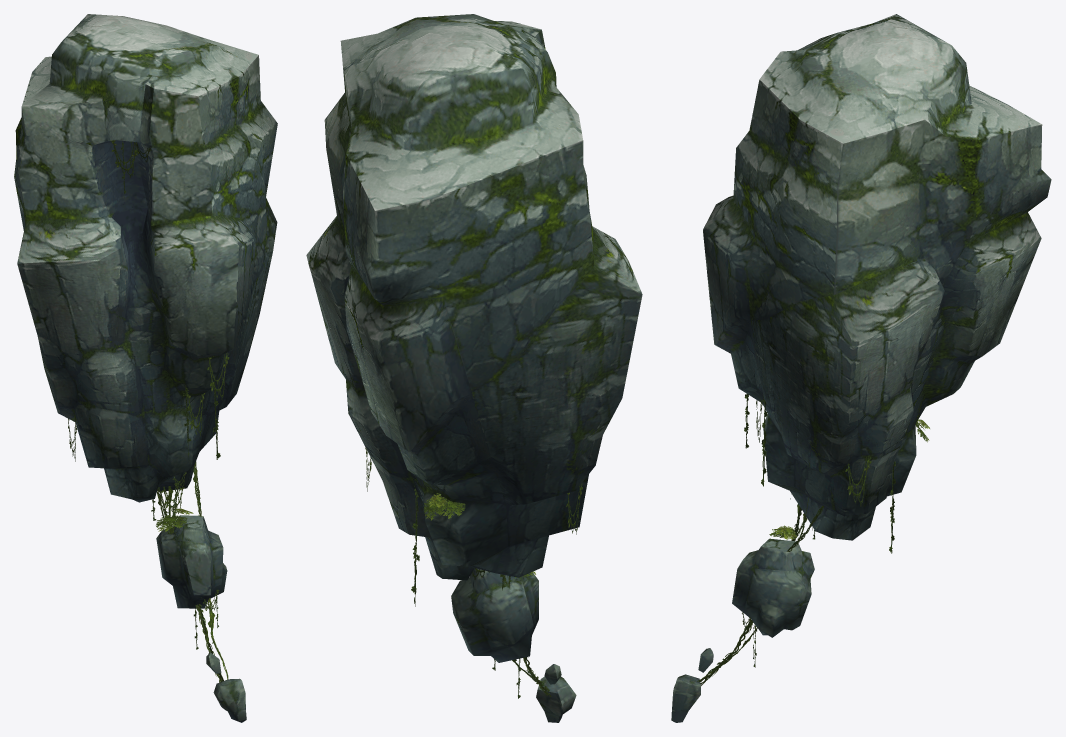
File: Item_3002_shanshi01_fukongdao05.FBX
3 views of the same model, side by side, from view 1: azimuth 30°, elevation 25°; view 2: azimuth 150°, elevation 25°; view 3: azimuth 270°, elevation 25° (orthographic). The views are drawn at different scales.
Parts seen in each view (by area): view 1: Item_3002_shanshi01_fukongdao05; view 2: Item_3002_shanshi01_fukongdao05; view 3: Item_3002_shanshi01_fukongdao05.
Part boxes in pixels (bbox=[...]): Item_3002_shanshi01_fukongdao05: bbox=[14, 14, 277, 722]; Item_3002_shanshi01_fukongdao05: bbox=[306, 14, 642, 722]; Item_3002_shanshi01_fukongdao05: bbox=[671, 14, 1051, 722].
Bounding box in the file's own units: 7569 × 17127 × 8727.
